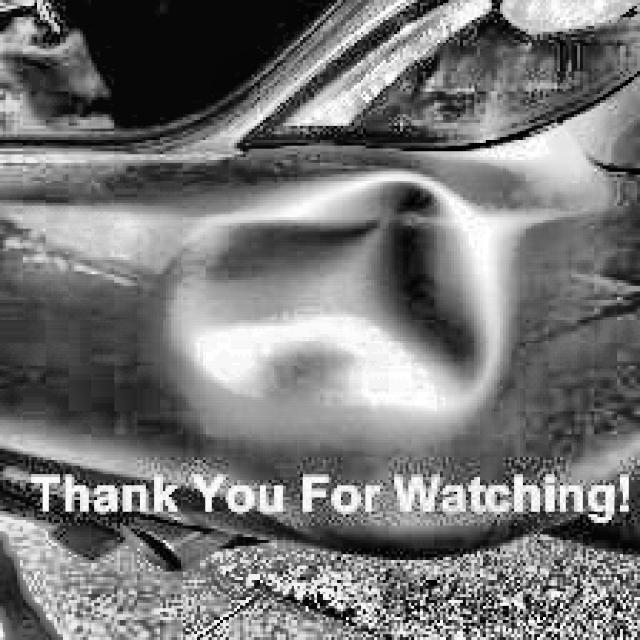bumper_dent: (161, 186, 486, 425)
